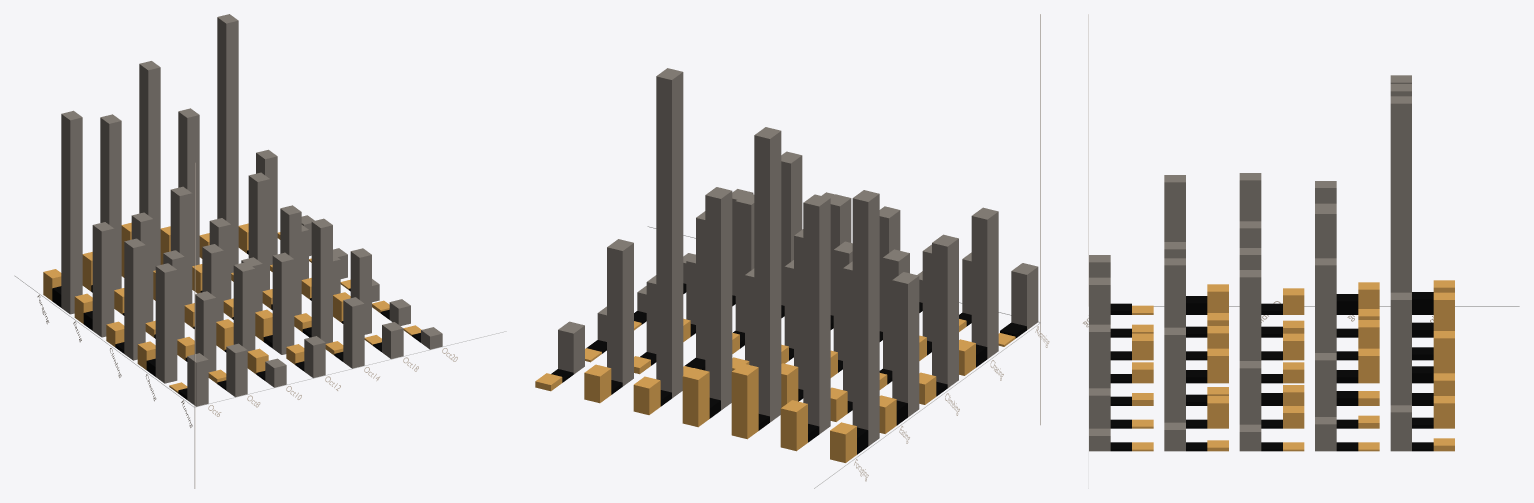
File: squirrel_active_bar.glb
3 renders of one model, left to right at view 1: azimuth 30°, elevation 25°; view 2: azimuth 150°, elevation 25°; view 3: azimuth 270°, elevation 25°, orthographic. The views are drawn at different scales.
Parts seen in each view (by area): view 1: Cube.135, Cube.115, Cube.125, Cube.120, Cube.112, Cube.132, Cube.113, Cube.114, Cube.130, Cube.127, Cube.134, Cube.124 (+16 smaller); view 2: Cube.135, Cube.125, Cube.115, Cube.120, Cube.130, Cube.113, Cube.112, Cube.140, Cube.114, Cube.132, Cube.133, Cube.195 (+24 smaller); view 3: Cube.135, Cube.140, Cube.137, Cube.133, Cube.134, Cube.132, Cube.112, Cube.138, Cube.131, Cube.139, Cube.124, Cube.113 (+30 smaller).
Boxes of the visible parts, left/top/right/bottom form: Cube.135: left=217, top=14, right=238, bottom=272; Cube.115: left=61, top=110, right=82, bottom=314; Cube.125: left=139, top=61, right=160, bottom=270; Cube.120: left=100, top=114, right=121, bottom=289; Cube.112: left=155, top=263, right=177, bottom=383; Cube.132: left=311, top=218, right=332, bottom=343; Cube.113: left=124, top=238, right=145, bottom=360; Cube.114: left=92, top=222, right=114, bottom=337; Cube.130: left=178, top=108, right=199, bottom=266; Cube.127: left=272, top=252, right=294, bottom=354; Cube.134: left=248, top=172, right=269, bottom=290; Cube.124: left=170, top=186, right=192, bottom=305; Cube.135: left=656, top=68, right=683, bottom=398; Cube.125: left=754, top=127, right=781, bottom=422; Cube.115: left=852, top=190, right=879, bottom=446; Cube.120: left=803, top=194, right=830, bottom=434; Cube.130: left=705, top=187, right=732, bottom=410; Cube.113: left=932, top=234, right=958, bottom=387; Cube.112: left=971, top=207, right=998, bottom=358; Cube.140: left=607, top=239, right=633, bottom=386; Cube.114: left=892, top=272, right=919, bottom=417; Cube.132: left=781, top=151, right=802, bottom=305; Cube.133: left=735, top=193, right=754, bottom=332; Cube.195: left=731, top=363, right=758, bottom=439; Cube.135: left=1390, top=96, right=1411, bottom=292; Cube.140: left=1390, top=292, right=1411, bottom=405; Cube.137: left=1164, top=327, right=1185, bottom=422; Cube.133: left=1239, top=270, right=1261, bottom=360; Cube.134: left=1315, top=258, right=1336, bottom=352; Cube.132: left=1164, top=258, right=1185, bottom=327; Cube.112: left=1164, top=175, right=1185, bottom=241; Cube.138: left=1239, top=361, right=1261, bottom=424; Cube.131: left=1089, top=324, right=1110, bottom=388; Cube.139: left=1315, top=353, right=1336, bottom=416; Cube.124: left=1315, top=207, right=1336, bottom=258; Cube.113: left=1239, top=173, right=1261, bottom=221.
Bounding box in the file's own units: 20.3 × 20.5 × 20.5.
